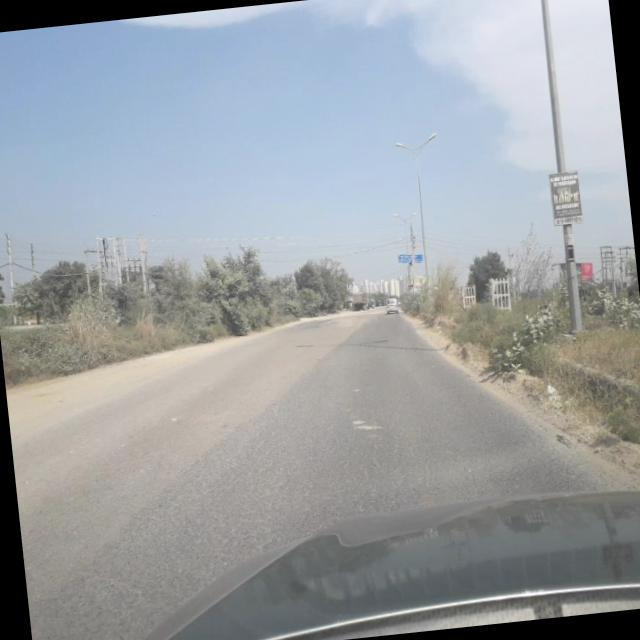crack: (91, 367, 594, 543)
